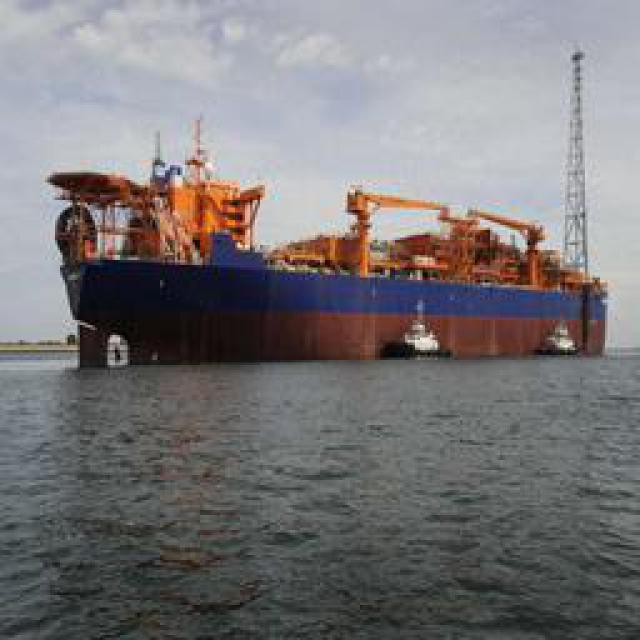Ship: (44, 133, 609, 361)
